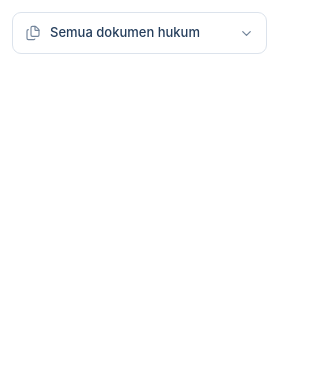
it: menu penyaring koleksi › mengirim koleksi yang dipilih sekali dan menyediakan SOP Permohonan SK
Press Enter in the button with aria-label "Jenis koleksi:", box top-left (12, 12), bottom-right (267, 54)
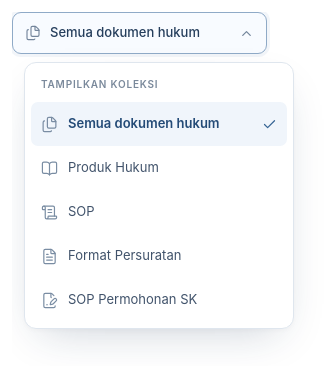
Click the menu item "SOP Permohonan SK". click: click(119, 300)
box: top-left (41, 291), bottom-right (197, 309)
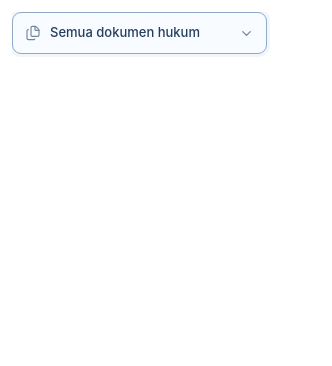
Now the menu is gone
